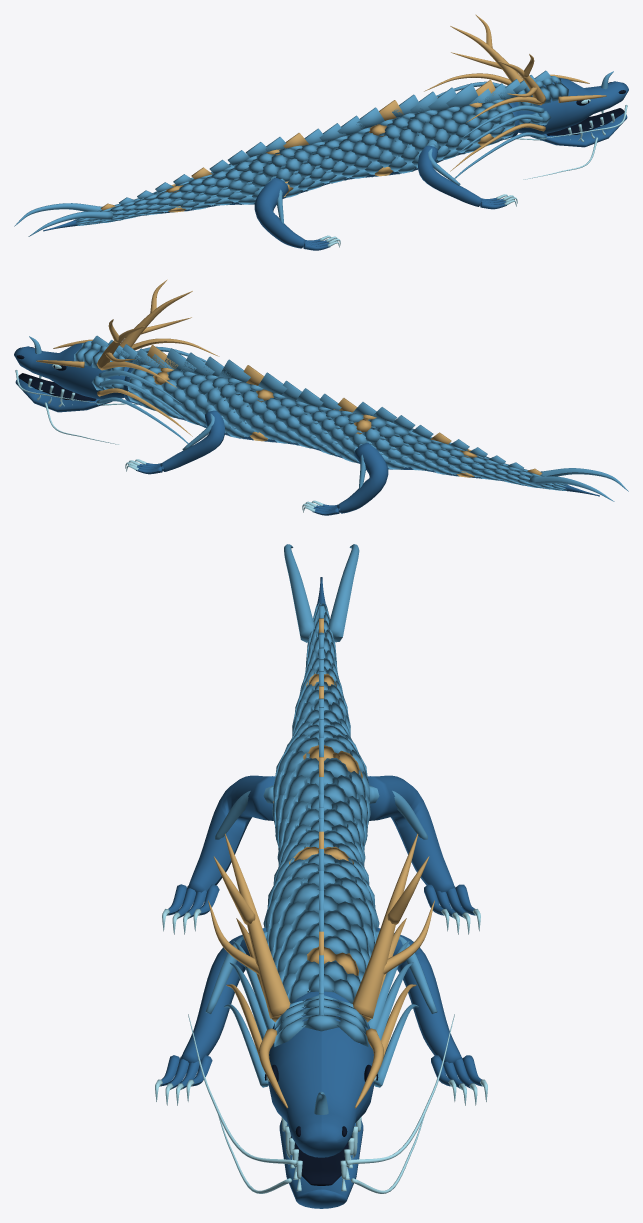
The model's file is dragon-slash32.glb.
3 renders of one model, top to bottom at view 1: azimuth 30°, elevation 25°; view 2: azimuth 150°, elevation 25°; view 3: azimuth 270°, elevation 25°, orthographic. The views are drawn at different scales.
Visible parts, largest first — view 1: slash body plate, slash body skin, slash head skin, slash head plate, slash head gold, slash body gold, slash head dark, slash head light, slash body light; view 2: slash body plate, slash body skin, slash head skin, slash head plate, slash head gold, slash body gold, slash head dark, slash head light, slash body light; view 3: slash body plate, slash body skin, slash head skin, slash head gold, slash head plate, slash head light, slash body gold, slash head dark, slash body light.
Boxes of the visible parts, x1=… form: slash body plate: x1=14, y1=83, x2=515, y2=236; slash body skin: x1=43, y1=102, x2=519, y2=250; slash head skin: x1=513, y1=77, x2=628, y2=147; slash head plate: x1=436, y1=70, x2=613, y2=178; slash head gold: x1=424, y1=14, x2=606, y2=171; slash body gold: x1=100, y1=80, x2=495, y2=212; slash head dark: x1=546, y1=82, x2=625, y2=135; slash head light: x1=505, y1=99, x2=627, y2=179; slash body light: x1=94, y1=138, x2=517, y2=247; slash body plate: x1=127, y1=348, x2=628, y2=501; slash body skin: x1=123, y1=367, x2=599, y2=515; slash head skin: x1=14, y1=343, x2=129, y2=412; slash head plate: x1=29, y1=335, x2=206, y2=443; slash head gold: x1=36, y1=279, x2=219, y2=436; slash body gold: x1=147, y1=345, x2=542, y2=477; slash head dark: x1=17, y1=347, x2=96, y2=400; slash head light: x1=15, y1=364, x2=137, y2=444; slash body light: x1=125, y1=403, x2=550, y2=512; slash body plate: x1=205, y1=544, x2=437, y2=1013; slash body skin: x1=160, y1=577, x2=482, y2=1088; slash head skin: x1=268, y1=999, x2=374, y2=1208; slash head gold: x1=208, y1=833, x2=434, y2=1108; slash head plate: x1=224, y1=940, x2=418, y2=1114; slash head light: x1=188, y1=1014, x2=454, y2=1193; slash body gold: x1=273, y1=618, x2=362, y2=975; slash head dark: x1=264, y1=1064, x2=378, y2=1185; slash body light: x1=155, y1=909, x2=487, y2=1105.
Bounding box in the file's own units: 4.92 × 1.06 × 1.17.
